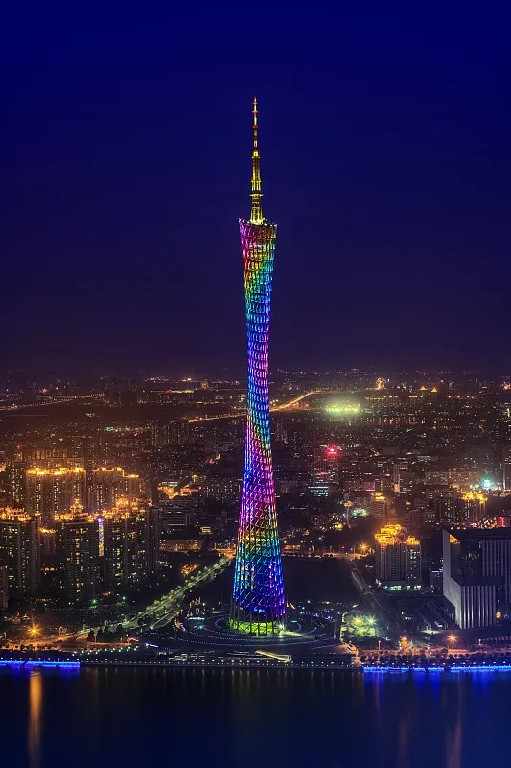Canton: (230, 93, 290, 640)
